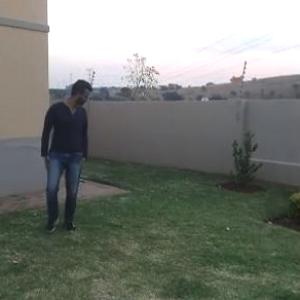follow: (34, 73, 89, 238)
